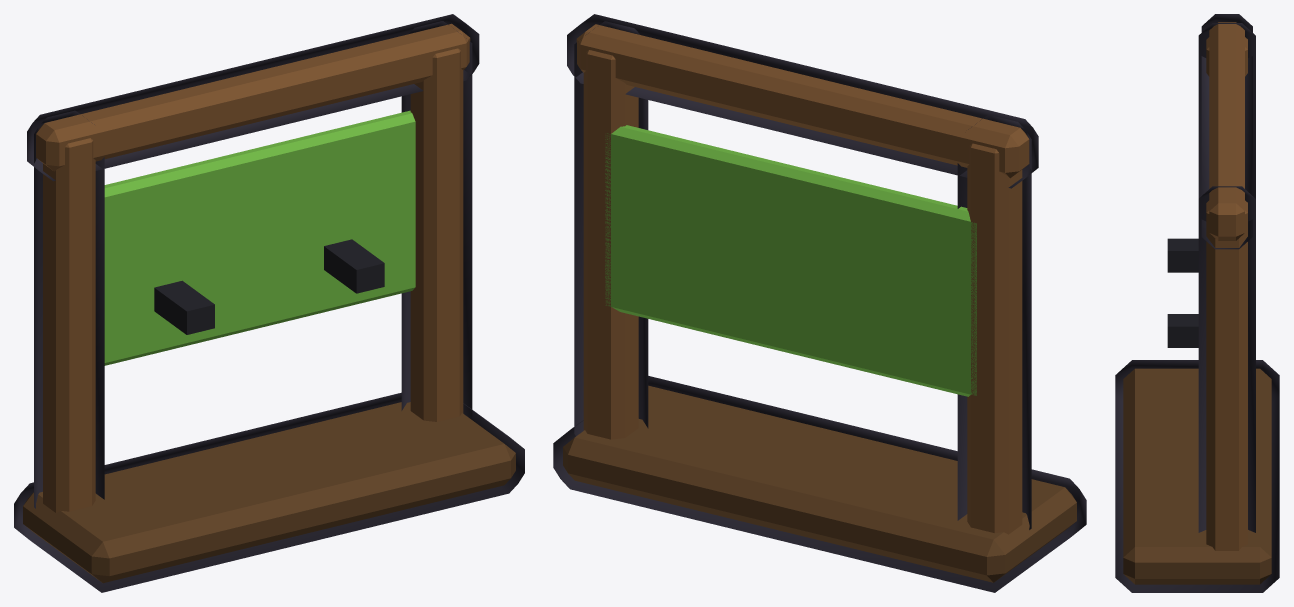
Rendered from weapon_rack.glb.
3 renders of one model, left to right at view 1: azimuth 30°, elevation 25°; view 2: azimuth 150°, elevation 25°; view 3: azimuth 270°, elevation 25°, orthographic. The views are drawn at different scales.
Parts seen in each view (by area): view 1: weapon_rack; view 2: weapon_rack; view 3: weapon_rack.
Boxes of the visible parts, left/top/right/bottom form: weapon_rack: left=14, top=14, right=524, bottom=592; weapon_rack: left=553, top=14, right=1086, bottom=592; weapon_rack: left=1115, top=14, right=1279, bottom=592.
Bounding box in the file's own units: 1.55 × 1.47 × 0.5525.
